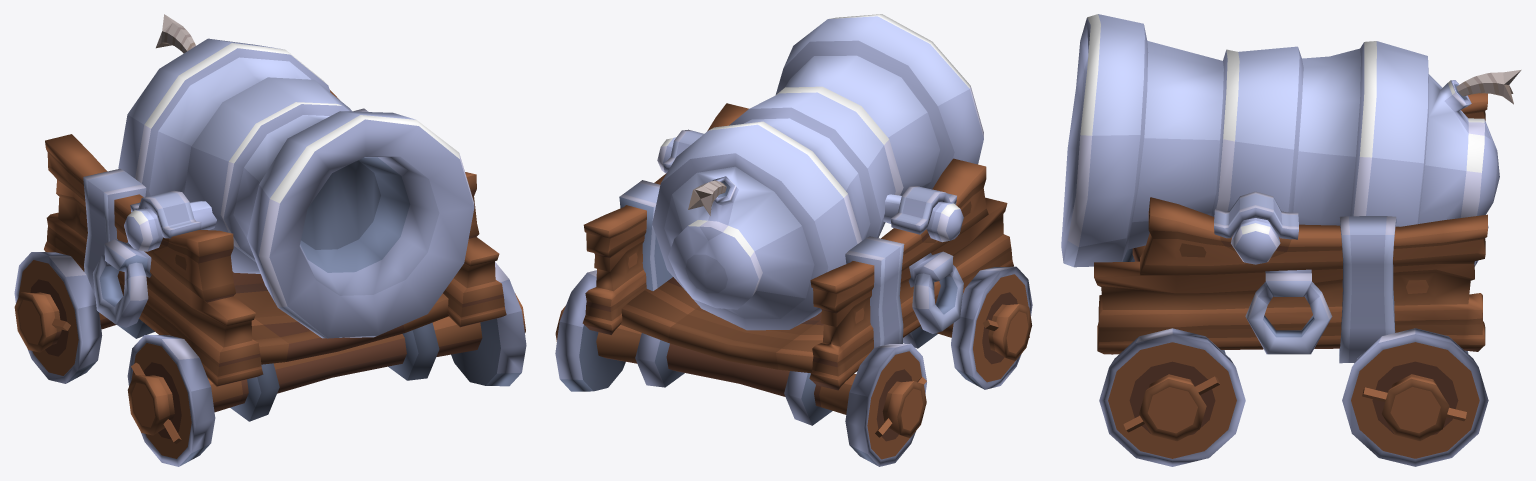
The model's file is Prop_Canon.fbx.
3 renders of one model, left to right at view 1: azimuth 30°, elevation 25°; view 2: azimuth 150°, elevation 25°; view 3: azimuth 270°, elevation 25°, orthographic. The views are drawn at different scales.
Parts seen in each view (by area): view 1: Model_Canon, Model_Cart, Model_Canon_Fuse; view 2: Model_Cart, Model_Canon, Model_Canon_Fuse; view 3: Model_Cart, Model_Canon, Model_Canon_Fuse.
Boxes of the visible parts, x1,y1,x2,y2 form: Model_Canon: (118,38,474,338); Model_Cart: (14,90,526,466); Model_Canon_Fuse: (156,14,195,53); Model_Cart: (555,103,1032,466); Model_Canon: (652,14,983,330); Model_Canon_Fuse: (688,180,726,215); Model_Cart: (1094,93,1488,466); Model_Canon: (1061,14,1499,267); Model_Canon_Fuse: (1456,69,1521,104).
Size of the model in its own units: 814 by 704 by 825.
